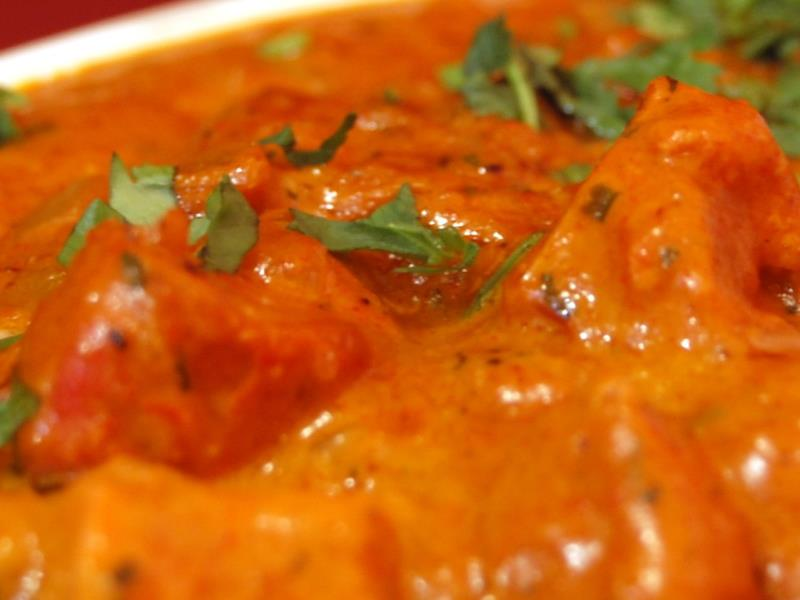butter_chicken: (1, 4, 795, 578)
